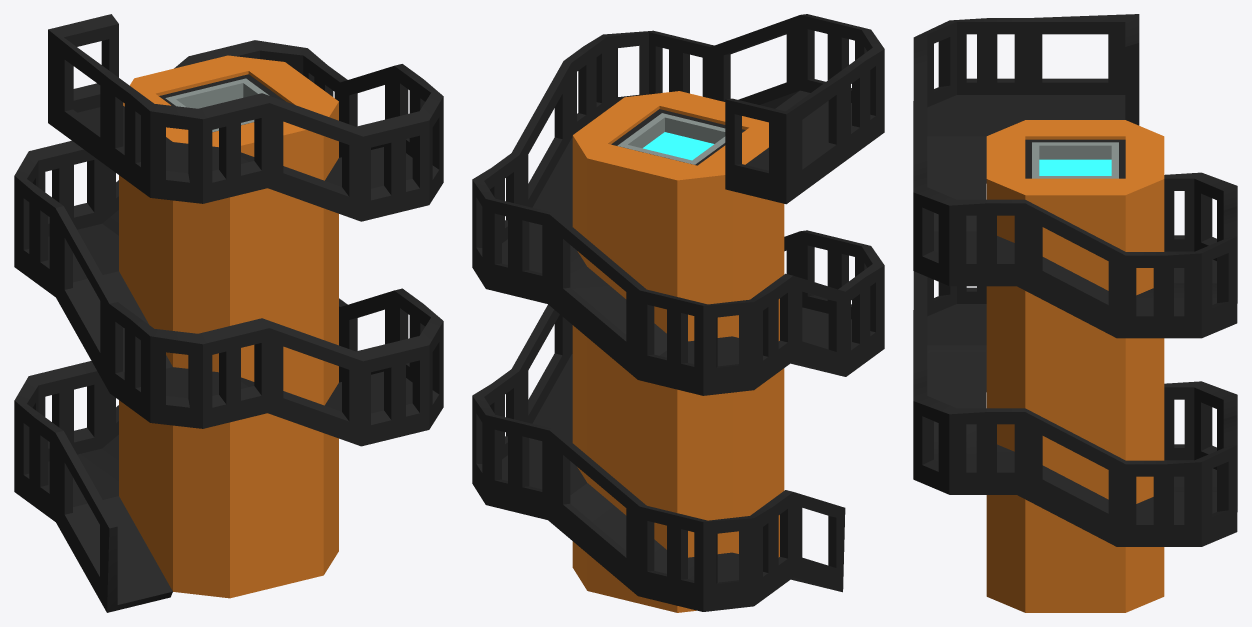
Rendered from Environment2_Cover_StairPillar.fbx.
3 renders of one model, left to right at view 1: azimuth 30°, elevation 25°; view 2: azimuth 150°, elevation 25°; view 3: azimuth 270°, elevation 25°, orthographic. The views are drawn at different scales.
Parts seen in each view (by area): view 1: StairsPillar, Pillar; view 2: StairsPillar, Pillar; view 3: StairsPillar, Pillar.
Boxes of the visible parts, left/top/right/bottom form: StairsPillar: left=14, top=14, right=443, bottom=612; Pillar: left=119, top=55, right=338, bottom=598; StairsPillar: left=472, top=14, right=884, bottom=611; Pillar: left=572, top=91, right=784, bottom=612; StairsPillar: left=913, top=14, right=1237, bottom=546; Pillar: left=986, top=120, right=1164, bottom=612.
Size of the model in its own units: 10.6 by 18.66 by 10.92.
